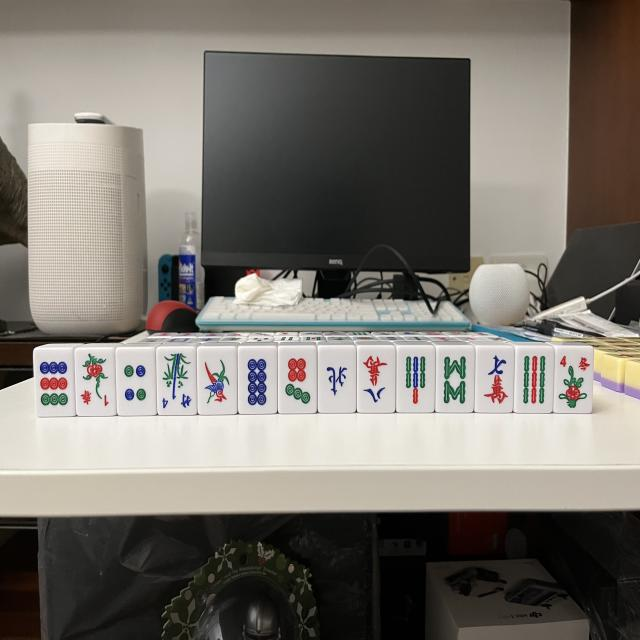f4: (157, 346, 197, 414)
ff1: (75, 346, 117, 414)
ff4: (553, 346, 594, 414)
m7: (475, 346, 516, 413)
m8: (356, 344, 396, 411)
north: (318, 346, 358, 414)
s1: (197, 347, 238, 413)
s7: (397, 344, 437, 412)
s8: (436, 344, 476, 412)
s9: (514, 346, 554, 414)
t4: (117, 347, 158, 414)
t7: (276, 344, 316, 413)
t8: (237, 347, 277, 415)
t9: (34, 348, 76, 418)
